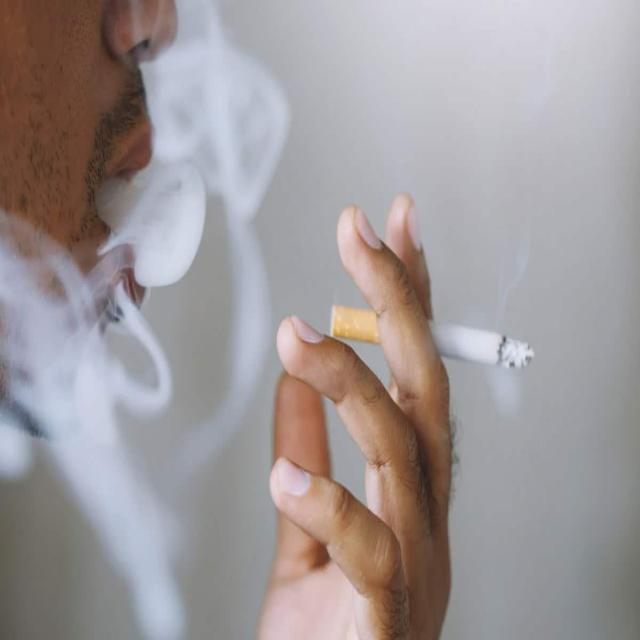Cigarette: (332, 306, 532, 371)
Hand: (247, 177, 482, 640)
Mouth: (88, 110, 169, 331)
